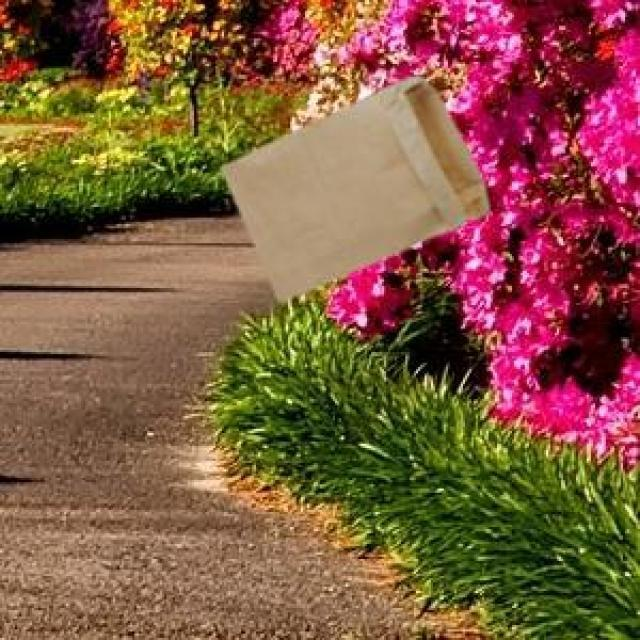paper: (218, 73, 484, 297)
